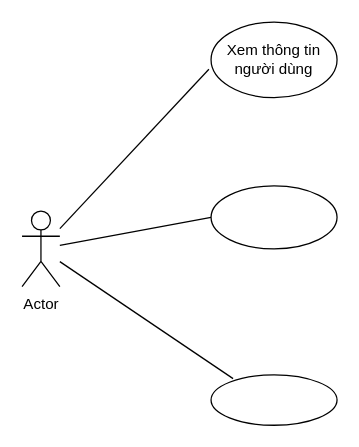
This 359x447 diagram has some shape labels left out. The box of each missing label's shape, as (x1, y1, x2, y2) in pixels:
Thêm mới tài khoản: (210, 185, 337, 249)
Xóa tài khoản: (210, 374, 337, 425)
